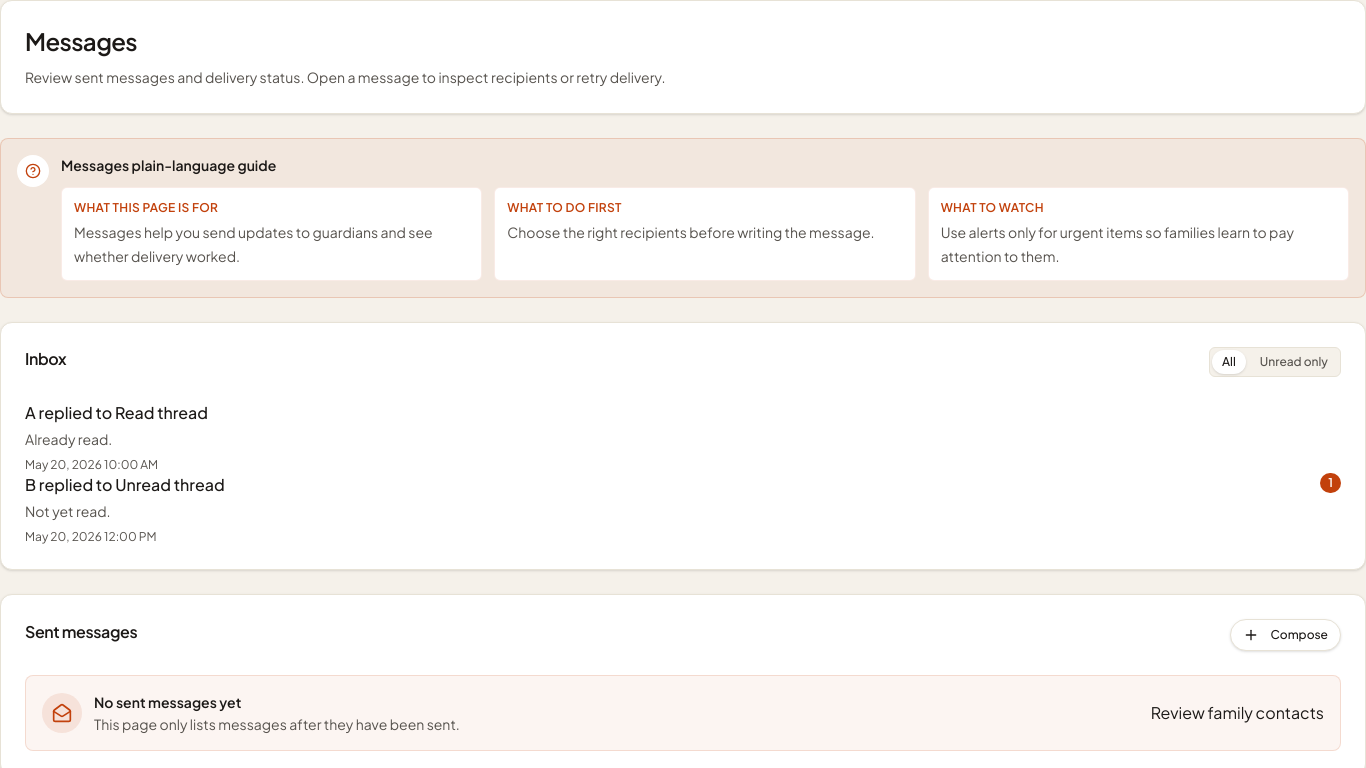
it: MessagesPage › filters inbox to unread-only when Unread only is clicked
Expected: the text "A replied to Read thread" is shown, [25,401,208,425]
Expected: the text "B replied to Unread thread" is shown, [25,473,225,497]
Switch to "Unread only"
Click the button "Unread only": (1294, 362) [1250,350,1338,374]
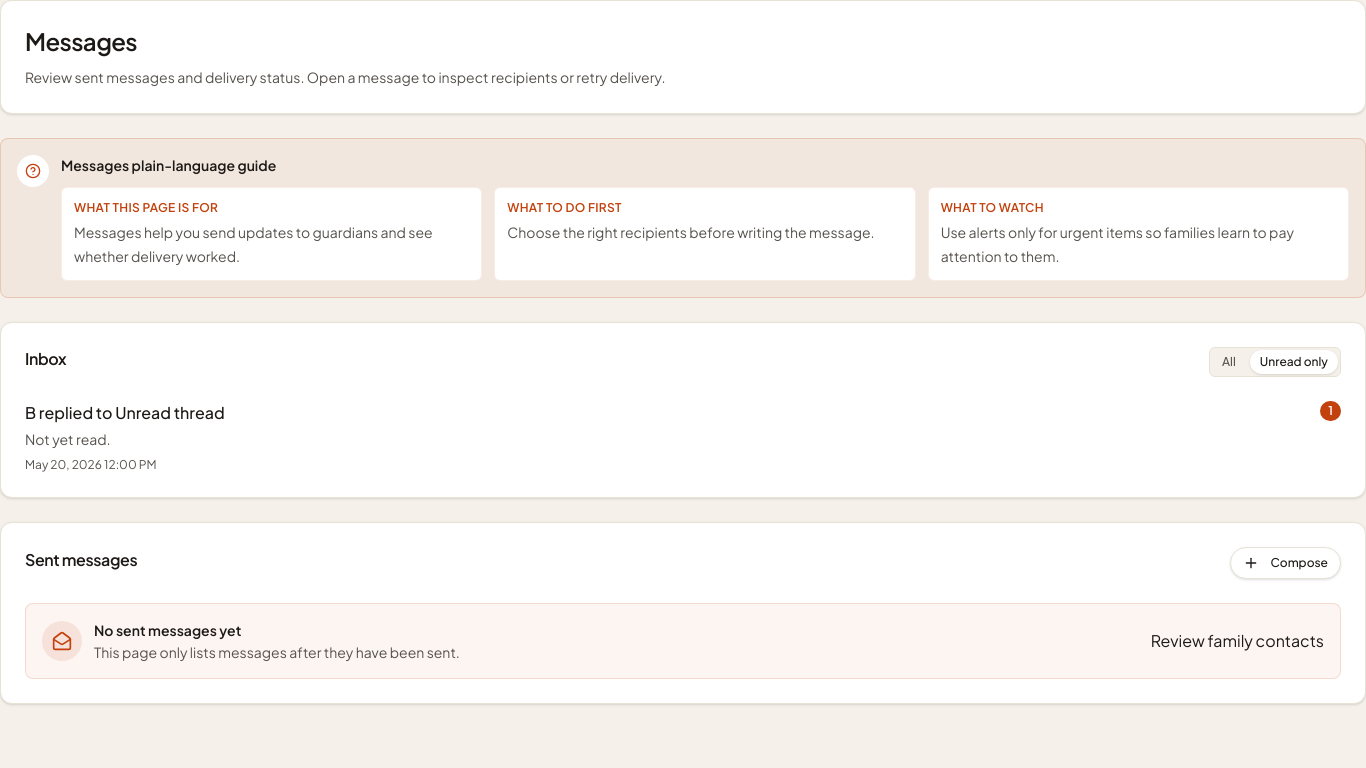
Expected: the text "B replied to Unread thread" is shown, [25,401,225,425]
Expected: the link "A replied to Read thread" is gone
